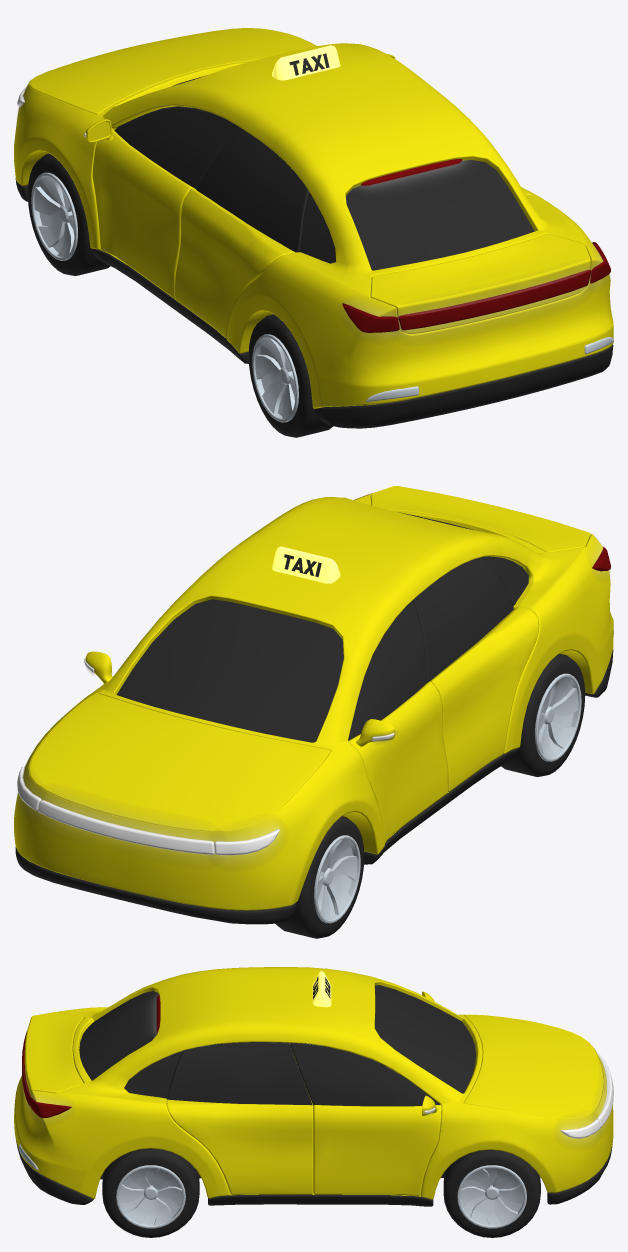
The model's file is ego_car_taxi.glb.
3 views of the same model, one above another, from view 1: azimuth 30°, elevation 25°; view 2: azimuth 150°, elevation 25°; view 3: azimuth 270°, elevation 25° (orthographic). The views are drawn at different scales.
Parts seen in each view (by area): view 1: body, doors_back-left, doors_front-left, window_back, trunk, hood, wheels_back-left, wheels_front-left, lights_brakes_volume, quarter_window-left, lights-brakes_turn-left_volume, lights-brakes_reverse_volume; view 2: body, hood, window_front, doors_back-left, doors_front-left, wheels_back-left, wheels_front-left, trunk, lights_front_volume, lights-front_turn-left_volume, quarter_window-left, doors_front-right; view 3: body, doors_back-right, doors_front-right, hood, wheels_back-right, wheels_front-right, window_front, trunk, window_back, quarter_window-right, lights-front_turn-right_volume, lights-brakes_turn-right_volume (+1 smaller).
Boxes of the visible parts, x1,y1,x2,y2 form: body: [14, 33, 613, 428]; doors_back-left: [175, 127, 309, 338]; doors_front-left: [84, 107, 239, 298]; window_back: [346, 160, 534, 270]; trunk: [370, 233, 591, 334]; hood: [29, 28, 315, 114]; wheels_back-left: [248, 314, 333, 437]; wheels_front-left: [27, 153, 110, 275]; lights_brakes_volume: [397, 266, 591, 338]; quarter_window-left: [300, 192, 335, 263]; lights-brakes_turn-left_volume: [342, 300, 399, 338]; lights-brakes_reverse_volume: [357, 160, 468, 189]; body: [14, 486, 613, 924]; hood: [29, 693, 330, 831]; window_front: [116, 599, 343, 742]; doors_back-left: [414, 557, 539, 791]; doors_front-left: [348, 599, 447, 843]; wheels_back-left: [501, 653, 585, 776]; wheels_front-left: [275, 816, 364, 938]; trunk: [370, 486, 590, 552]; lights_front_volume: [37, 792, 218, 862]; lights-front_turn-left_volume: [213, 822, 282, 864]; quarter_window-left: [483, 556, 528, 605]; doors_front-right: [84, 651, 113, 685]; body: [14, 967, 613, 1206]; doors_back-right: [166, 1042, 313, 1195]; doors_front-right: [290, 1042, 441, 1196]; hood: [464, 1015, 603, 1119]; wheels_back-right: [102, 1148, 199, 1237]; wheels_front-right: [443, 1149, 540, 1237]; window_front: [375, 985, 476, 1093]; trunk: [22, 1012, 83, 1107]; window_back: [79, 991, 158, 1080]; quarter_window-right: [124, 1051, 182, 1098]; lights-front_turn-right_volume: [558, 1116, 600, 1144]; lights-brakes_turn-right_volume: [31, 1094, 71, 1121].
Size of the model in its own units: 1.63 by 1.31 by 3.43.
29 materials, 9 textured.
